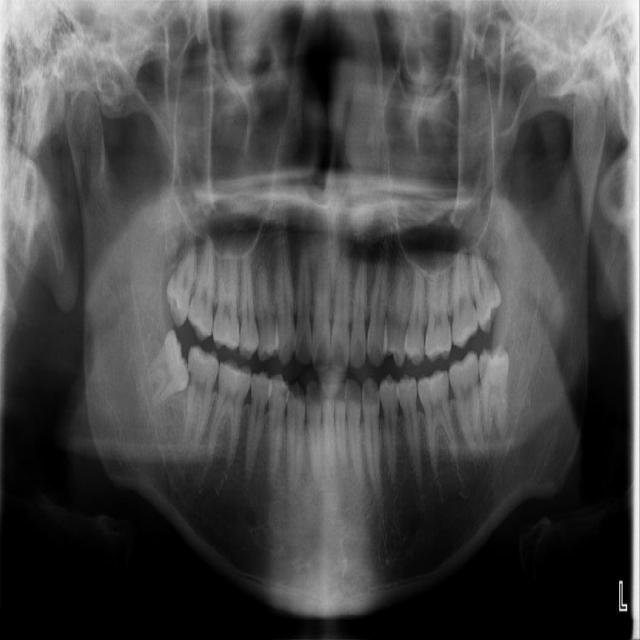impacted tooth: (135, 331, 192, 409), (481, 347, 508, 441)
